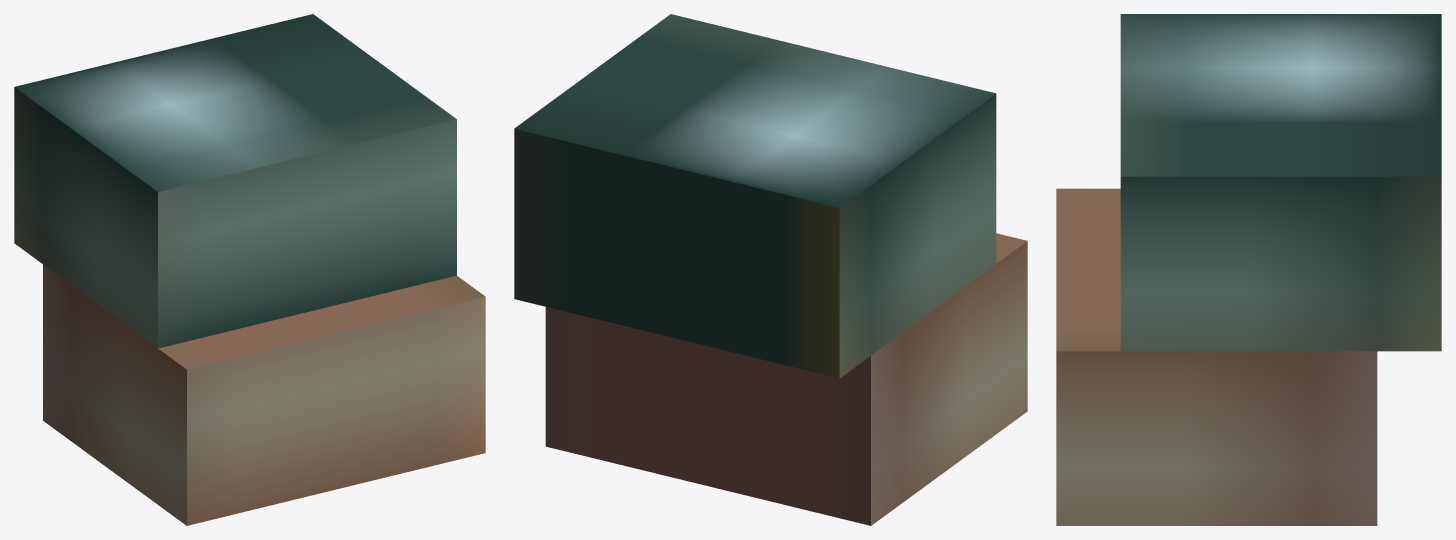
The model's file is BookStack_B_03.fbx.
3 views of the same model, side by side, from view 1: azimuth 30°, elevation 25°; view 2: azimuth 150°, elevation 25°; view 3: azimuth 270°, elevation 25° (orthographic). The views are drawn at different scales.
Visible parts, largest first — view 1: BookStack_B_03; view 2: BookStack_B_03; view 3: BookStack_B_03.
Boxes of the visible parts, <box> form: BookStack_B_03: <box>14,14,485,525</box>; BookStack_B_03: <box>514,14,1027,525</box>; BookStack_B_03: <box>1056,14,1441,525</box>.
Bounding box in the file's own units: 30 × 30 × 30.
Materials: 1 (1 with a texture image).
